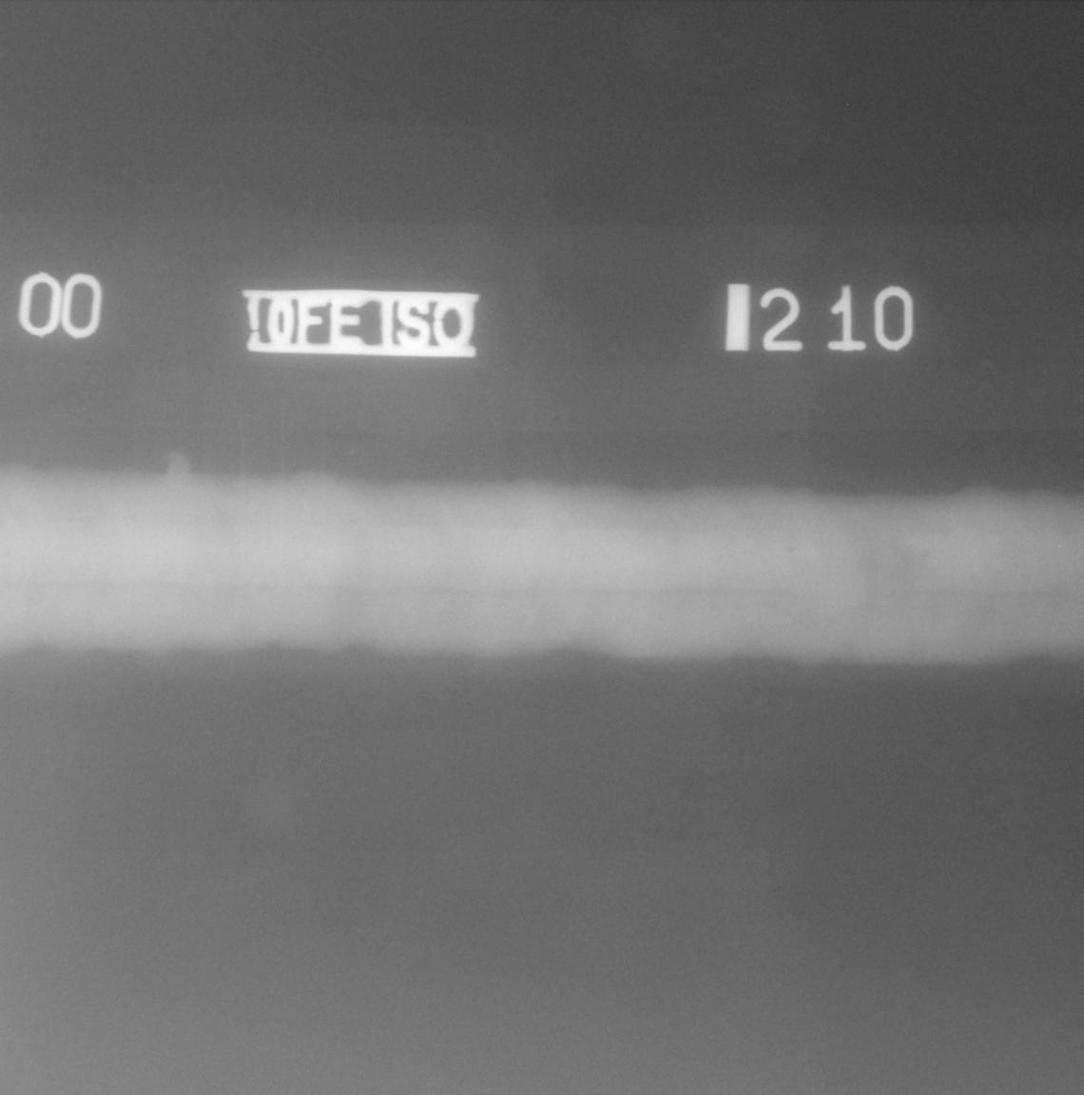Pore/Porosity: (788, 545, 798, 554), (921, 551, 930, 559)
